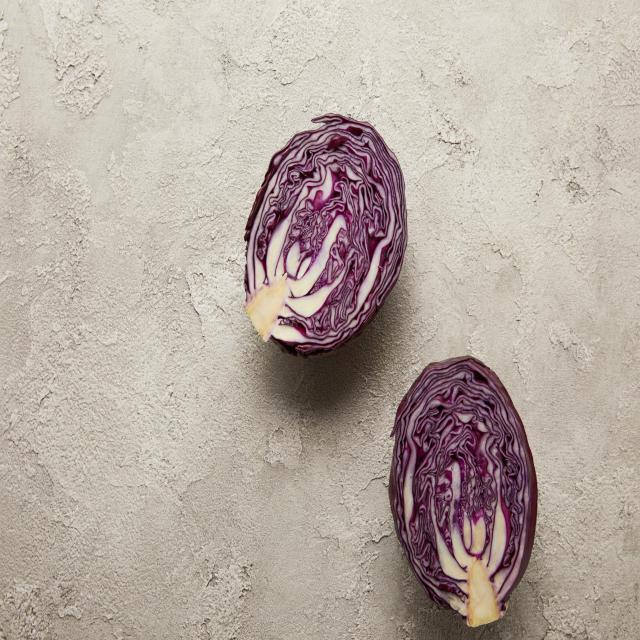cabbage: (240, 109, 410, 363), (390, 348, 541, 630)
